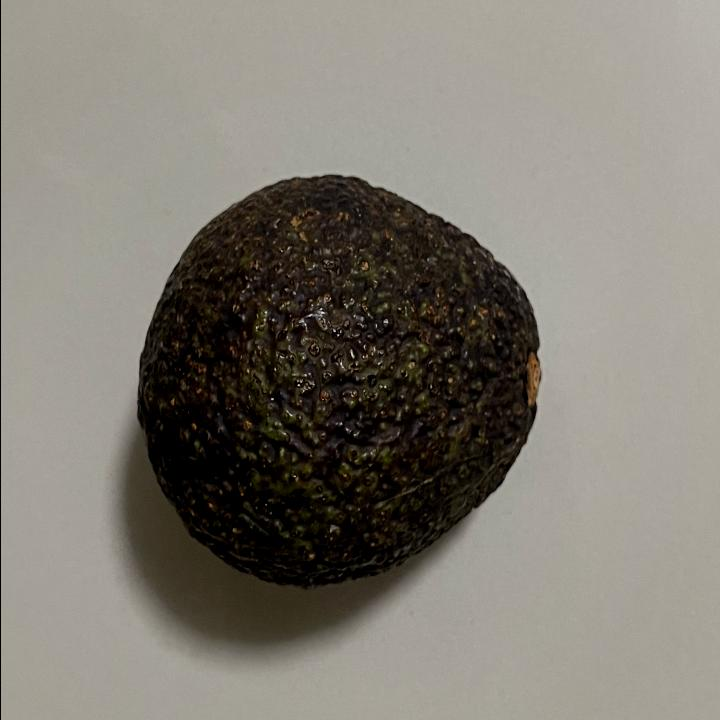Level2: (129, 170, 547, 592)
